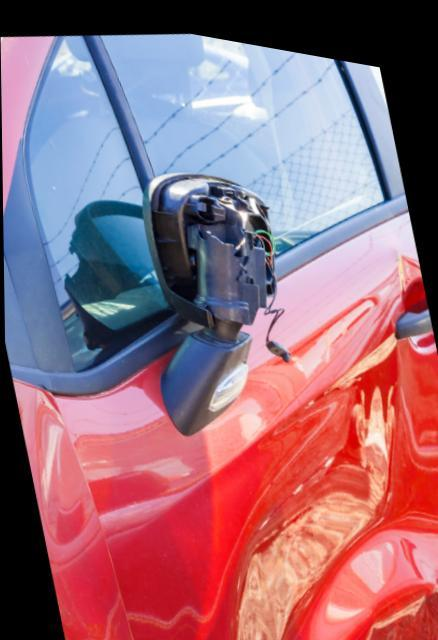dent: (226, 327, 438, 640), (349, 573, 438, 640)
no part: (149, 174, 286, 336)
